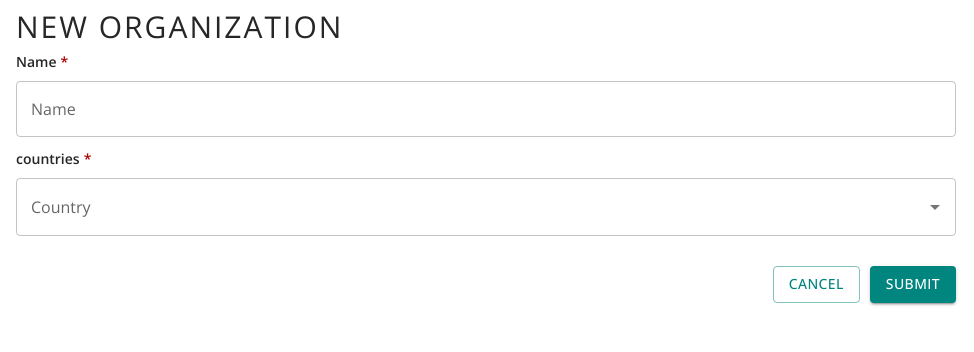
Test: OrganizationForm › asks for a country before saving
This screenshot has width=974, height=352.
Type "test organ2" into the field labelled "Name *" at [486, 109], box [16, 81, 956, 137]
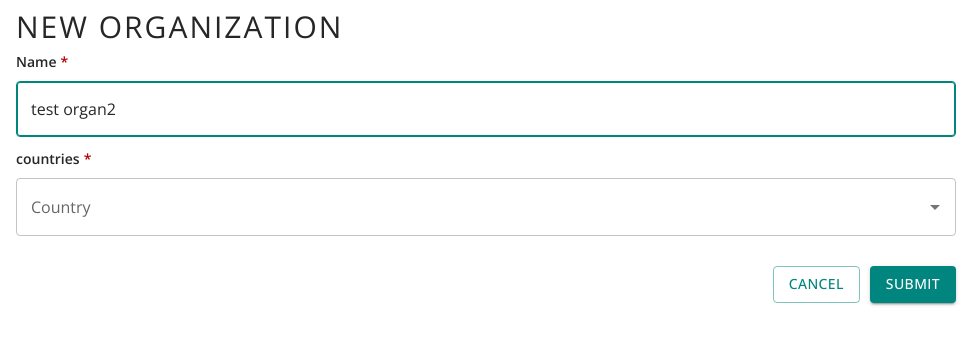
Click the button "Submit" at [913, 284], box [870, 266, 956, 302]
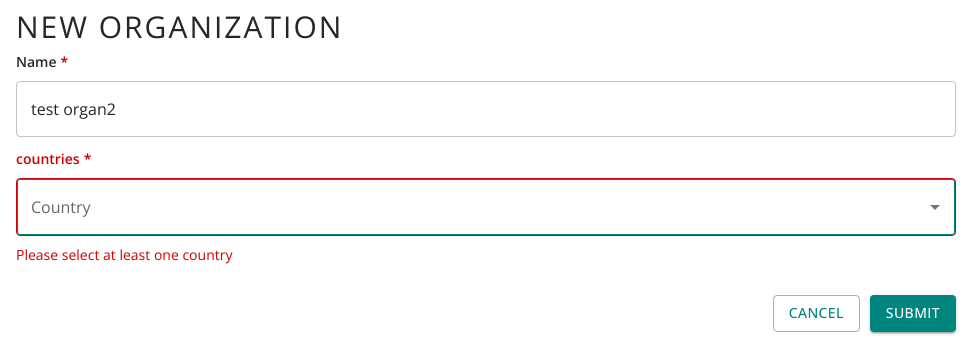
Expected: the text "Please select at least one country" is shown, [16, 245, 232, 264]
